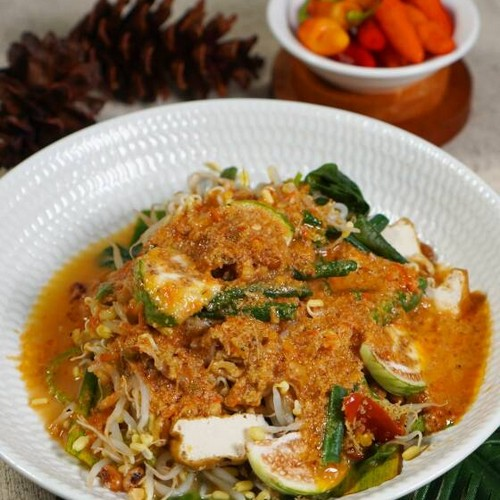serombotan: (31, 172, 461, 483)
